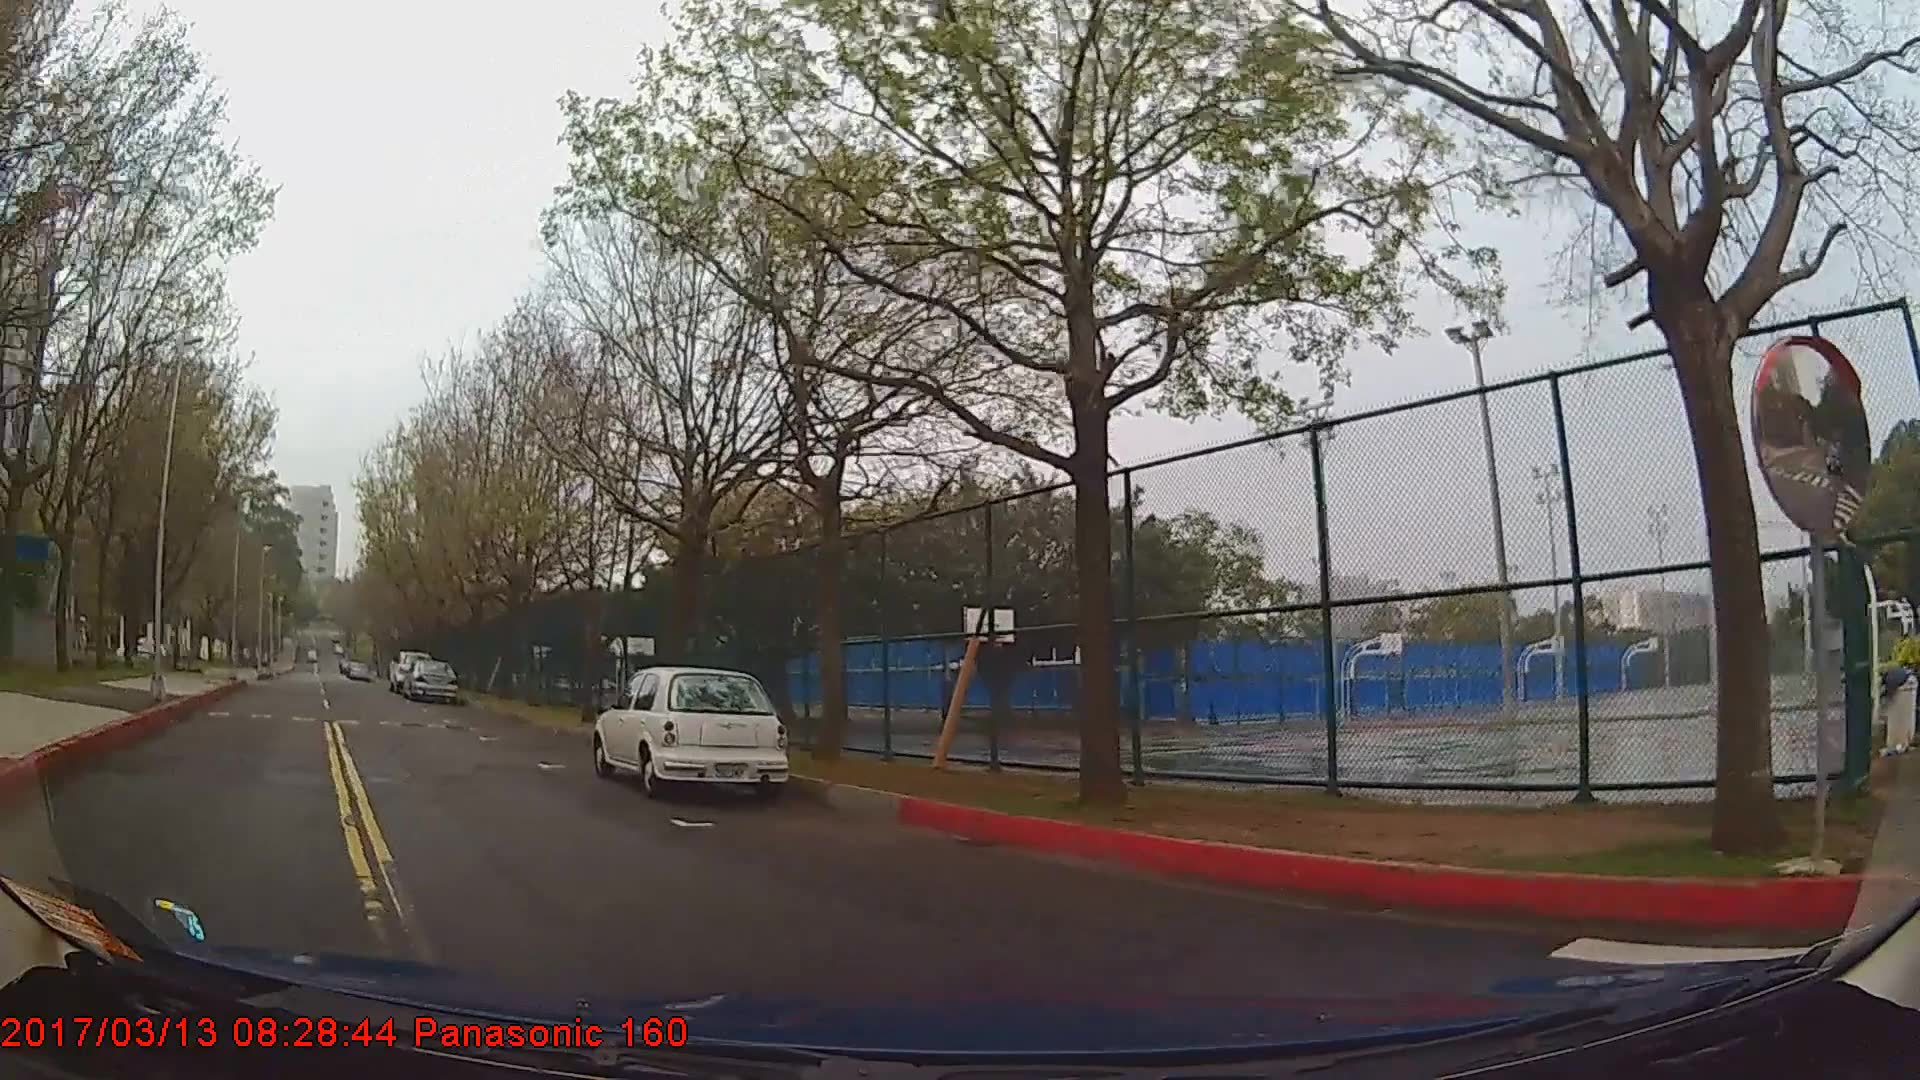vehicle: (593, 666, 789, 796), (400, 658, 458, 702)
